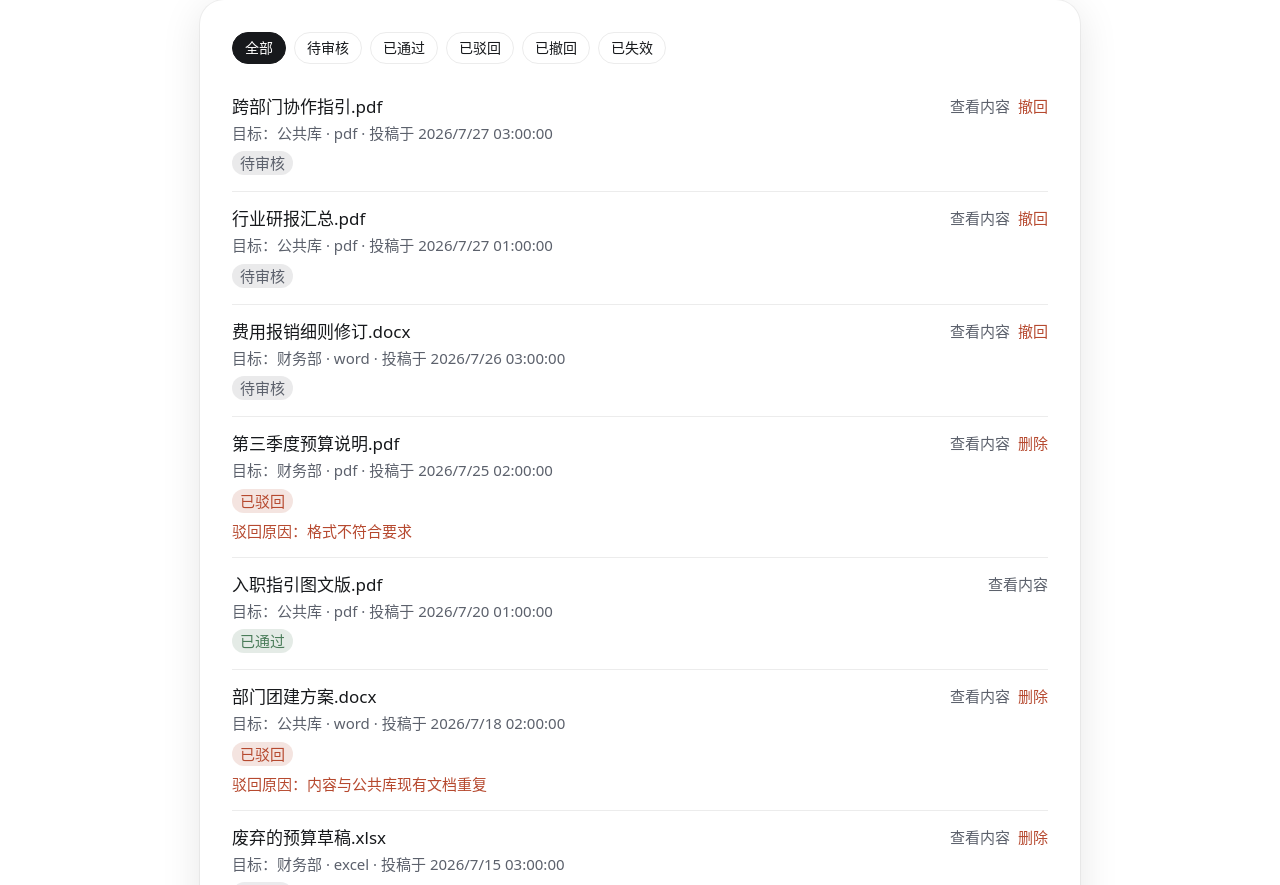
Test: SubmissionsLayer 我的投稿层（经契约 mock 真实运行） › 已驳回行可删除：204 后行收拢移除
// 五态种子引入多个可删除行：按目标文件名定位其所在行的「删除」
What coordinates should you click on to do the following:
click the button "删除" in the row of "第三季度预算说明.pdf"
I would click on:
 (1033, 443)
Its box is [1018,433,1048,454].
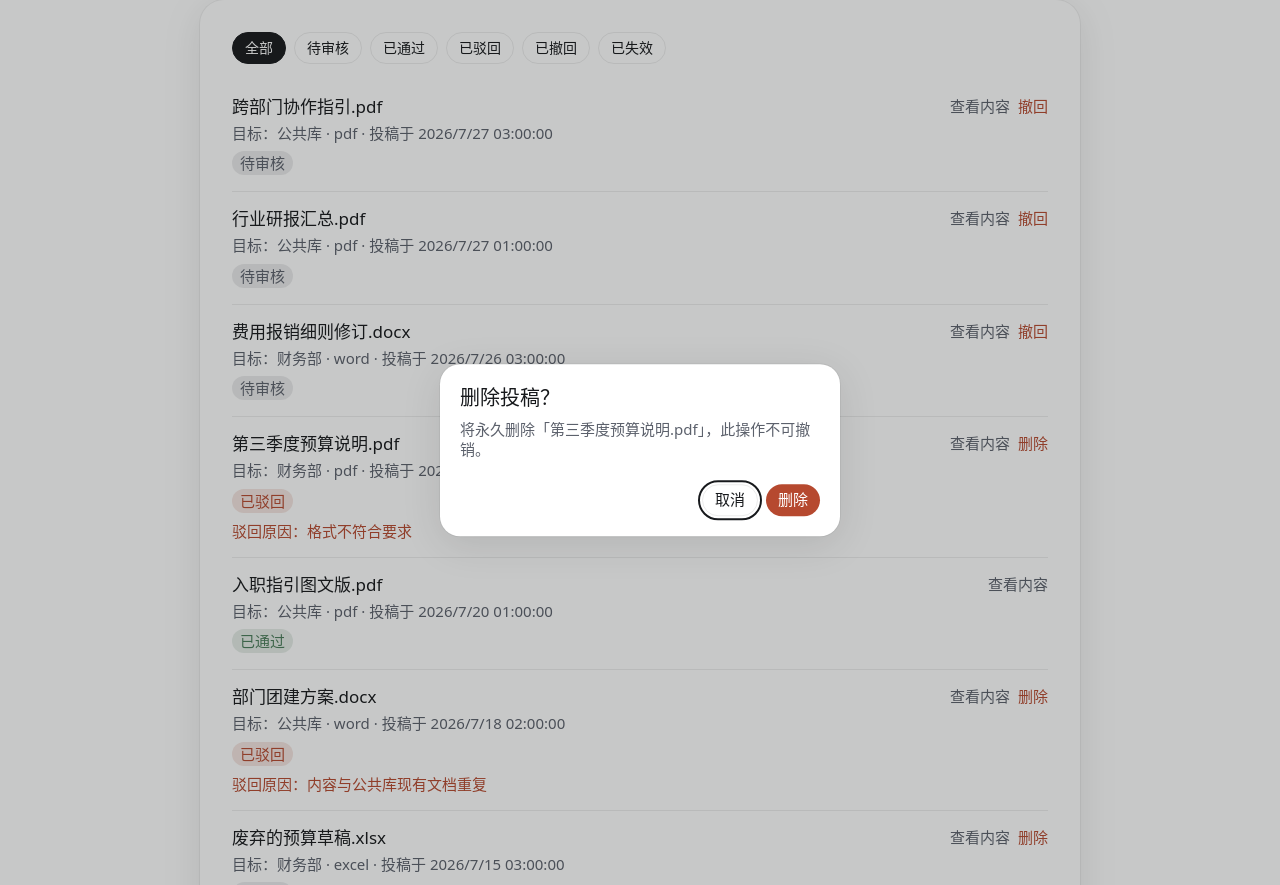
What coordinates should you click on to do the following:
click the button "删除"
I would click on:
 (793, 500)
Its box is [766,484,820,516].
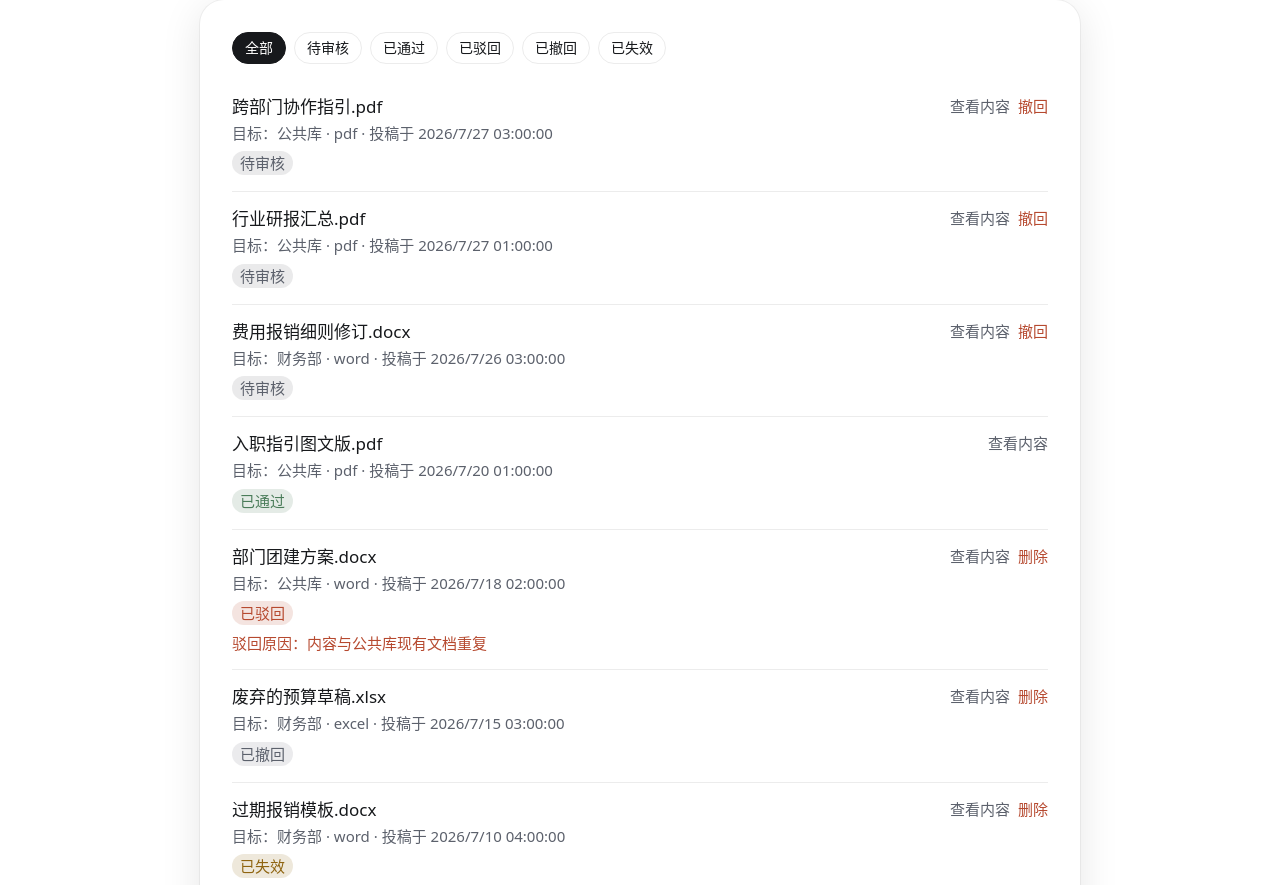
Check: the text "第三季度预算说明.pdf" is gone
